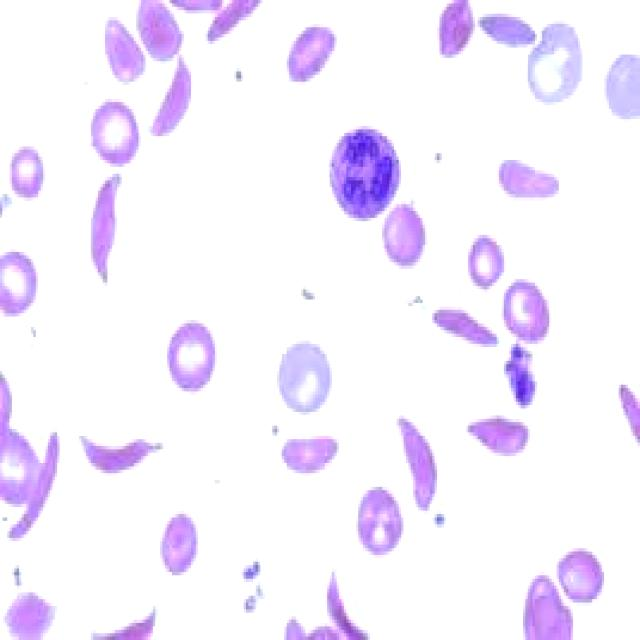RBC: (162, 317, 227, 405), (275, 334, 339, 422), (79, 89, 148, 170), (368, 201, 434, 272), (552, 538, 614, 613), (284, 20, 344, 96), (95, 13, 153, 88), (153, 504, 208, 582), (274, 429, 342, 487), (0, 238, 45, 323), (129, 0, 191, 61), (502, 279, 556, 347), (602, 41, 640, 133), (5, 140, 50, 208), (432, 0, 482, 61), (461, 231, 509, 293)
WBC: (325, 116, 408, 228)
sickle cell: (5, 418, 64, 552), (387, 405, 444, 528), (82, 164, 132, 296), (425, 300, 502, 364), (76, 429, 170, 480), (147, 51, 197, 143), (466, 408, 537, 466)
